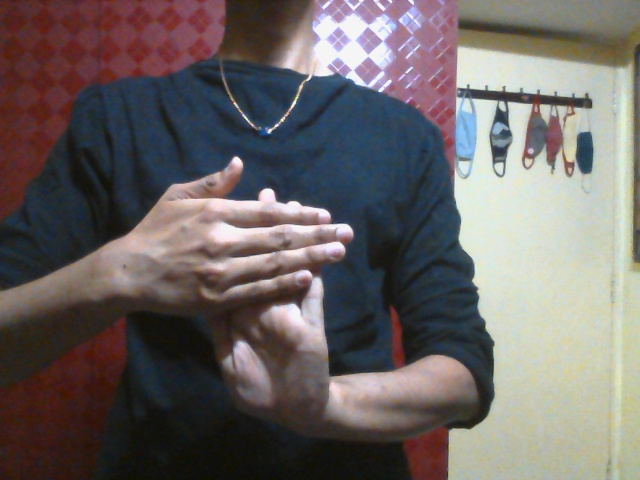H: (135, 154, 356, 427)
